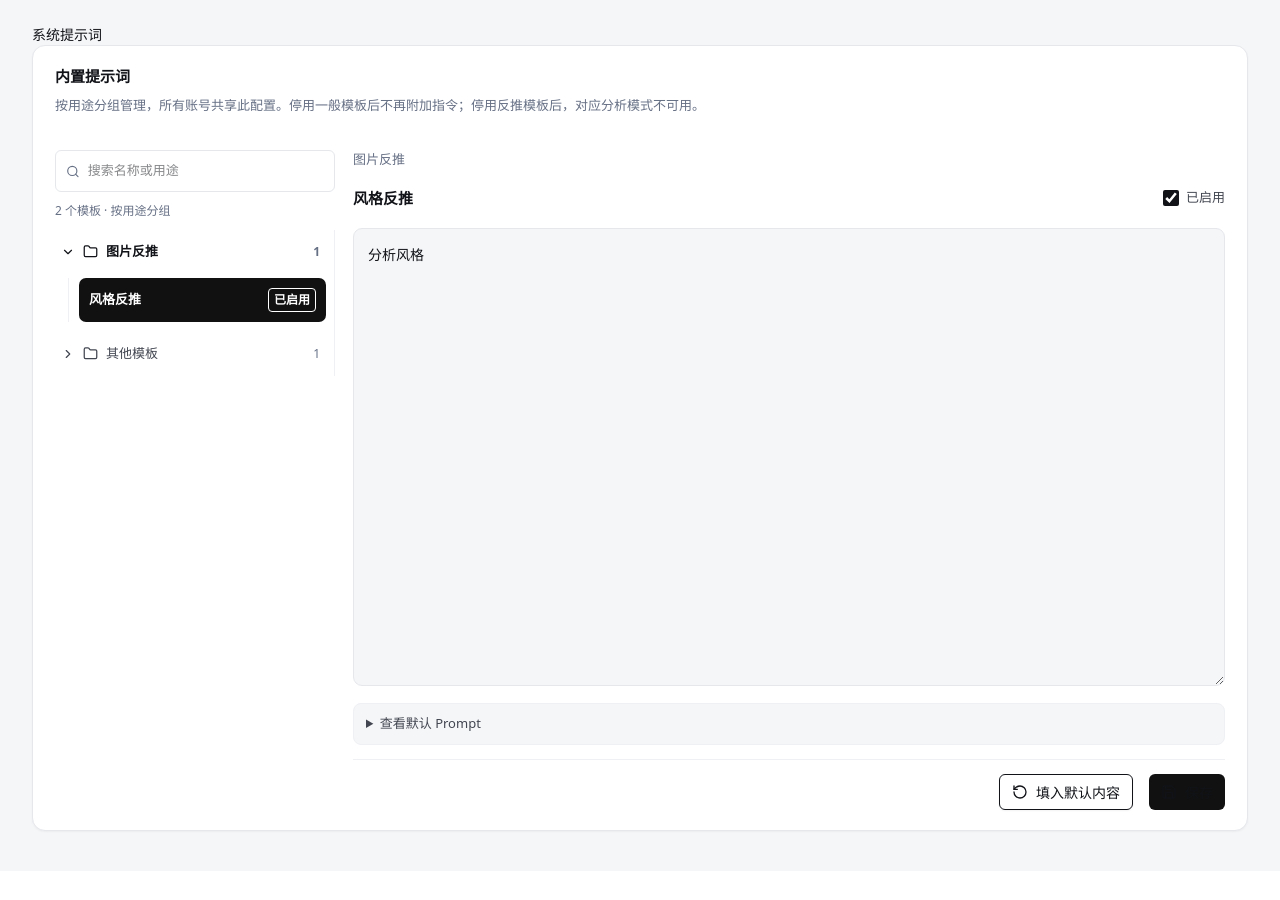
Scenario: fills defaults locally and saves only after the explicit Save action
Click the button "填入默认内容": (1066, 792) [999,774,1133,810]
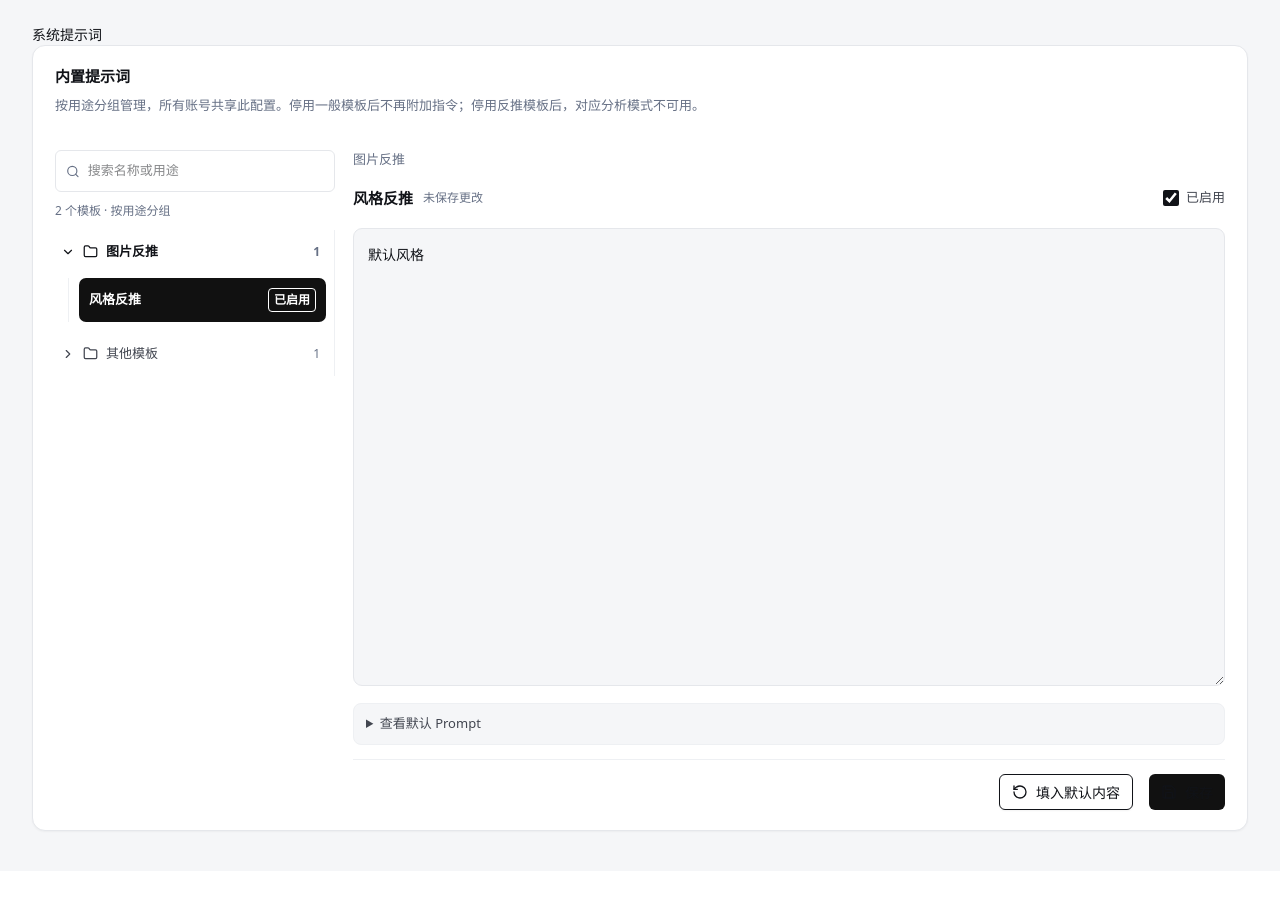
Now the text box named "提示词模板内容" holds "默认风格", box [353,228,1225,686]
Now the text "未保存更改" is shown, box [423,189,483,207]
Click the button "保存": (1187, 792) [1149,774,1225,810]
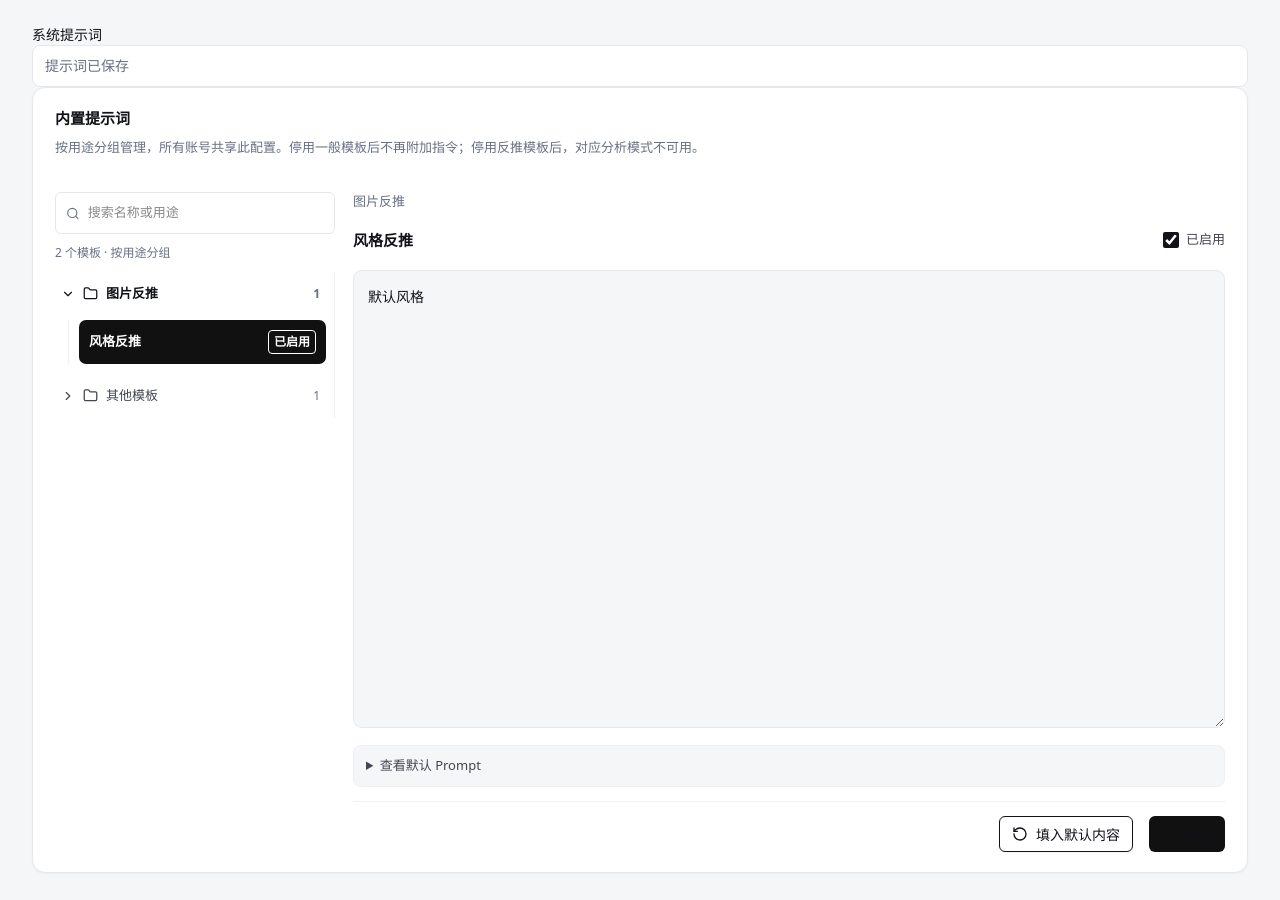
Now the text "提示词已保存" is shown, box [45,56,129,75]
